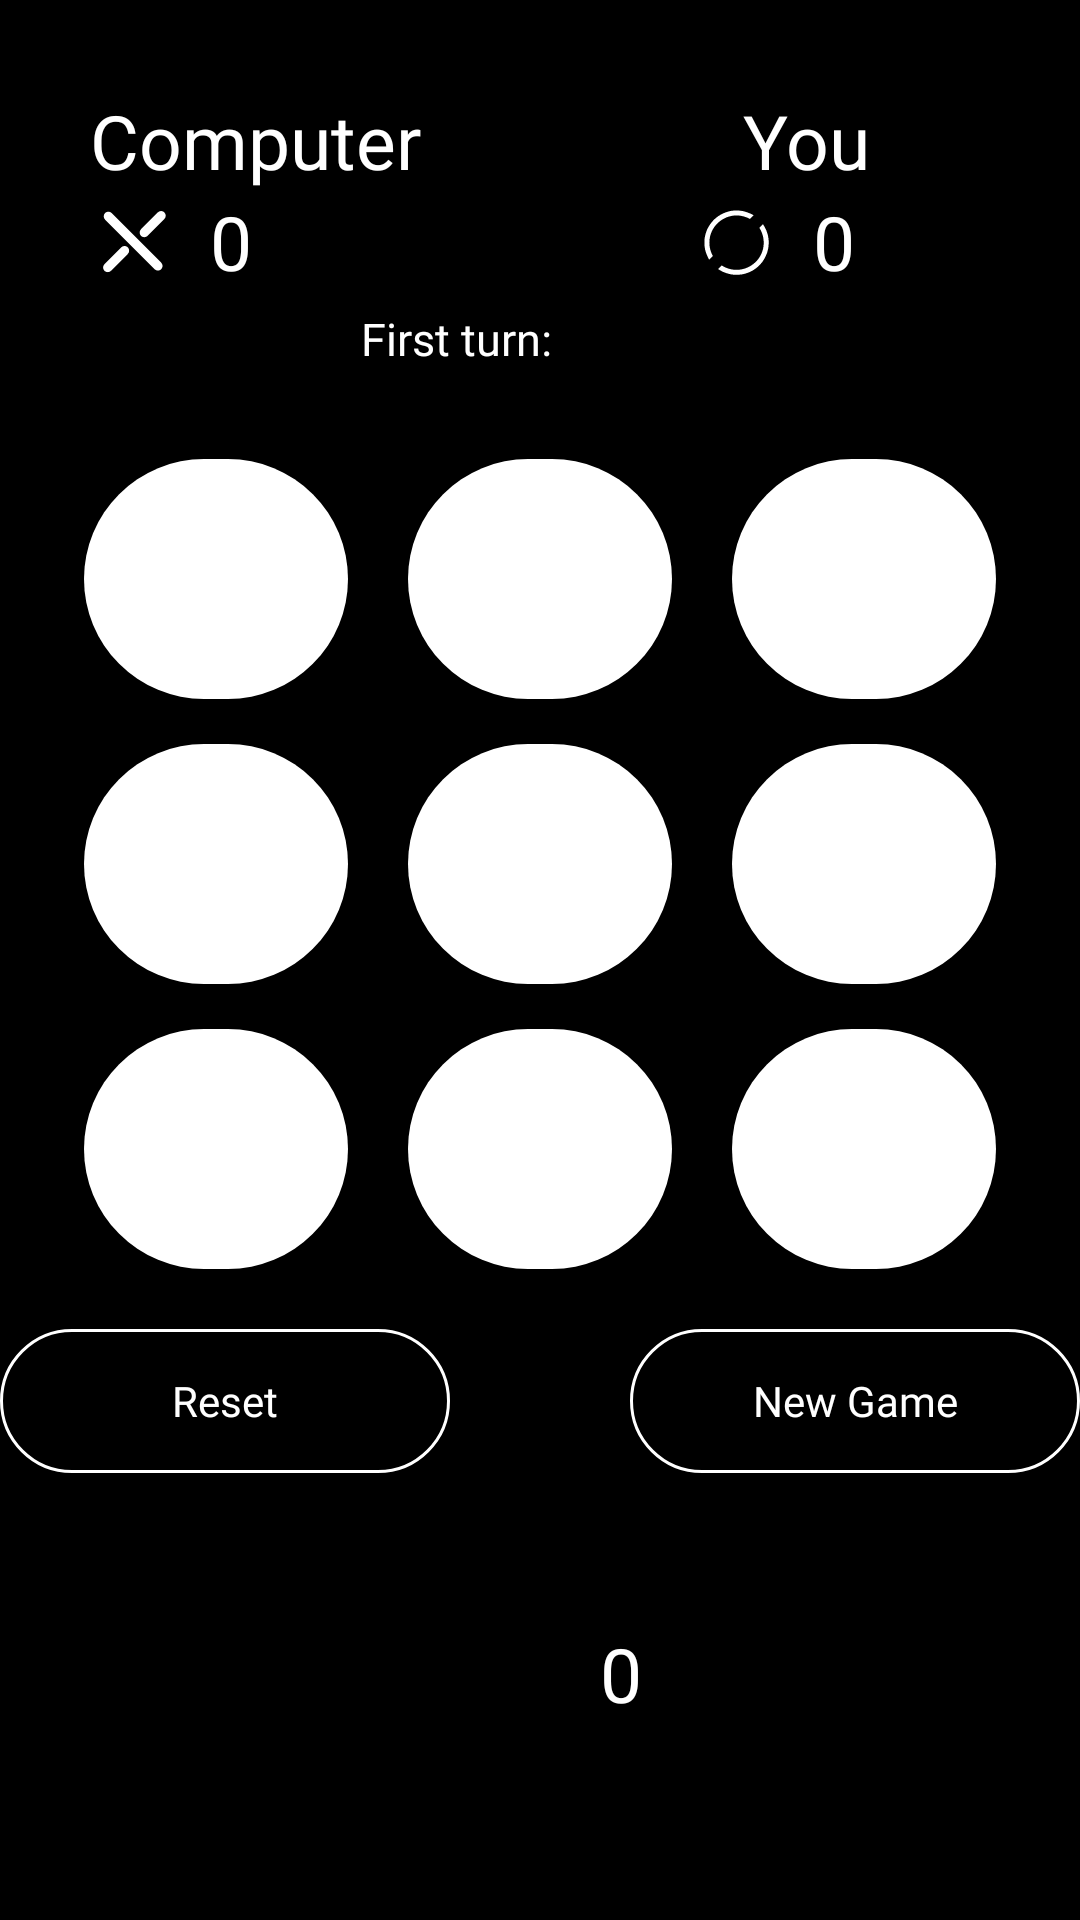

Screen size 1080 × 1920. Icon name, then its box in pixels as rect(x1, y1, x2, y2):
circle: rect(704, 210, 769, 275)
cross: rect(103, 211, 166, 272)
